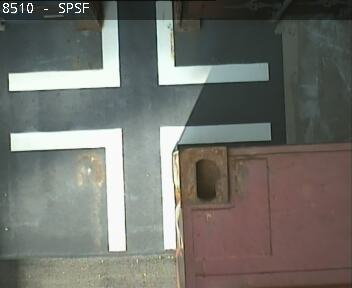groundmarker_1: (9, 120, 270, 251), (8, 1, 267, 92)
